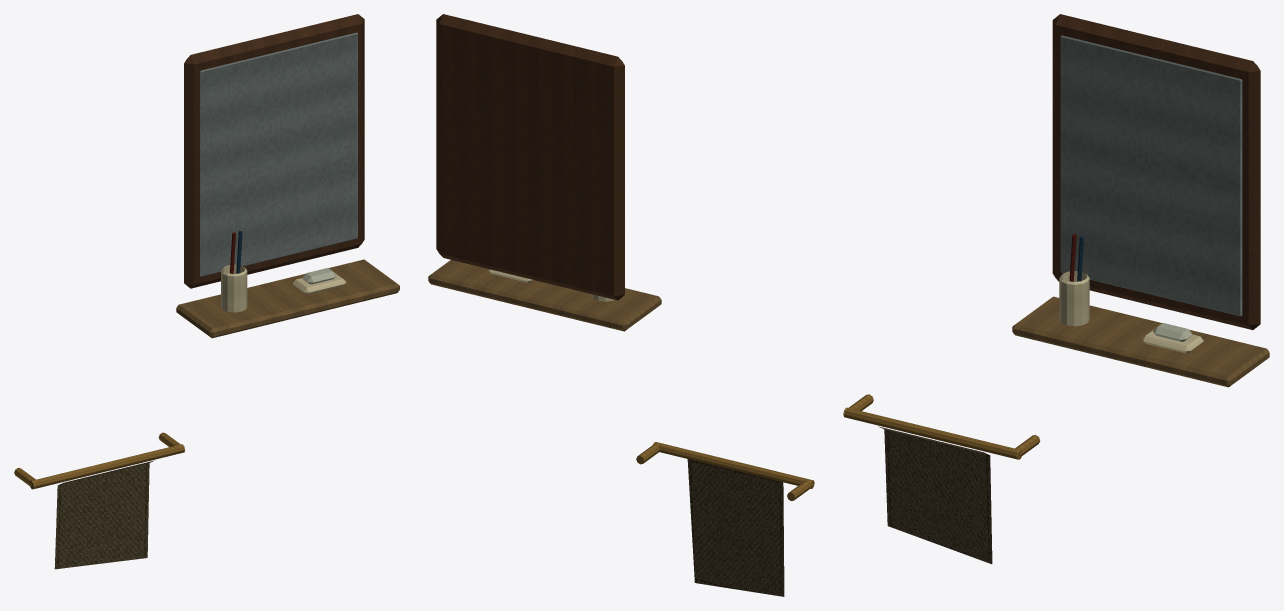
Rendered from level_bathroom_wall_set.glb.
The picture shows the model from 3 angles, left to right: view 1: azimuth 30°, elevation 25°; view 2: azimuth 150°, elevation 25°; view 3: azimuth 330°, elevation 25°; orthographic projection. The views are drawn at different scales.
Visible parts, largest first — view 1: level_bathroom_wall_set; view 2: level_bathroom_wall_set; view 3: level_bathroom_wall_set.
Boxes of the visible parts, box(x1,y1,x2,y2) form: level_bathroom_wall_set: box(14, 14, 399, 569); level_bathroom_wall_set: box(428, 14, 814, 596); level_bathroom_wall_set: box(843, 14, 1269, 564).
Size of the model in its own units: 1.07 by 1.47 by 0.19.
Materials: 9 (9 with a texture image).
